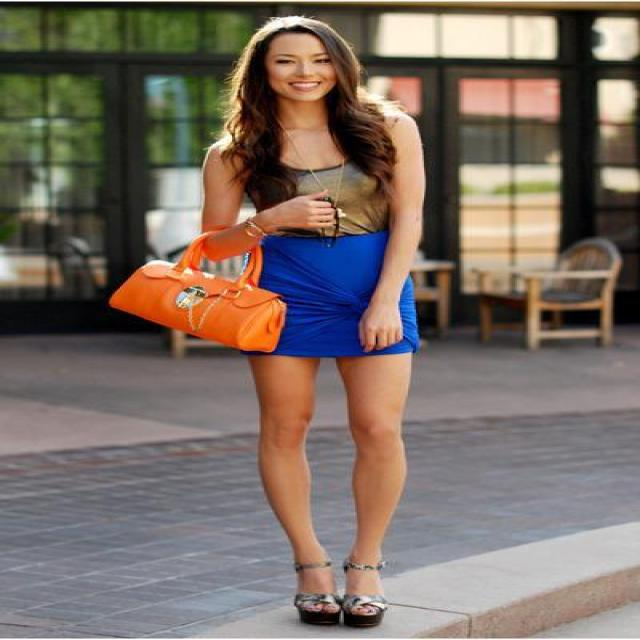bag: (109, 237, 285, 351)
shirt: (249, 137, 396, 242)
shoe: (294, 602, 382, 628)
skirt: (258, 228, 419, 356)
